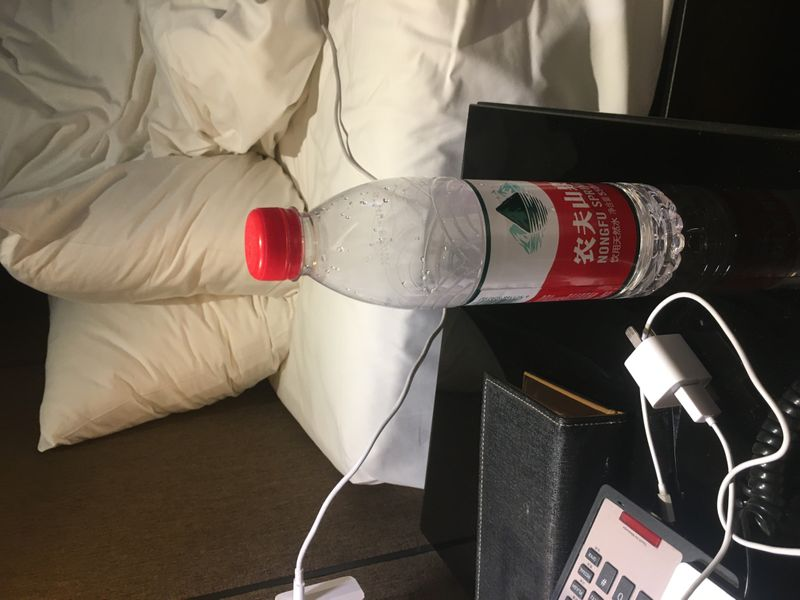5eca67a90202601e8cb8d104: (244, 175, 686, 305)
